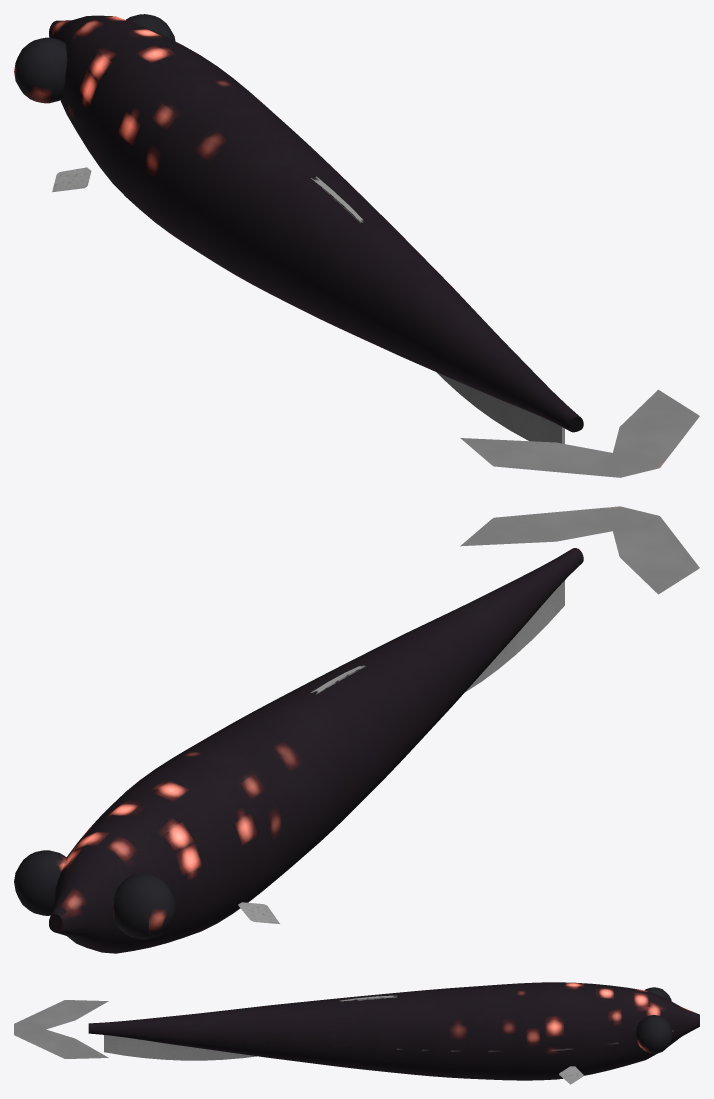
Rendered from malacosteus_niger.glb.
The picture shows the model from 3 angles, top to bottom: view 1: azimuth 30°, elevation 25°; view 2: azimuth 150°, elevation 25°; view 3: azimuth 270°, elevation 25°; orthographic projection. The views are drawn at different scales.
Parts seen in each view (by area): view 1: malacosteus_niger; view 2: malacosteus_niger; view 3: malacosteus_niger.
Boxes of the visible parts, x1=… form: malacosteus_niger: x1=14, y1=14, x2=699, y2=477; malacosteus_niger: x1=14, y1=506, x2=699, y2=953; malacosteus_niger: x1=14, y1=982, x2=699, y2=1084.
Bounding box in the file's own units: 0.2532 × 0.1632 × 1.12.
2 materials, 2 textured.
